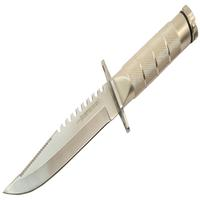knife: (2, 8, 193, 198)
